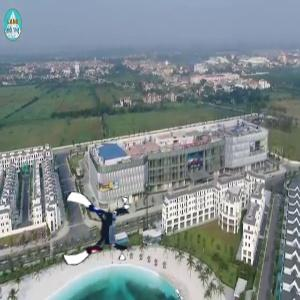drone: (58, 193, 135, 270)
